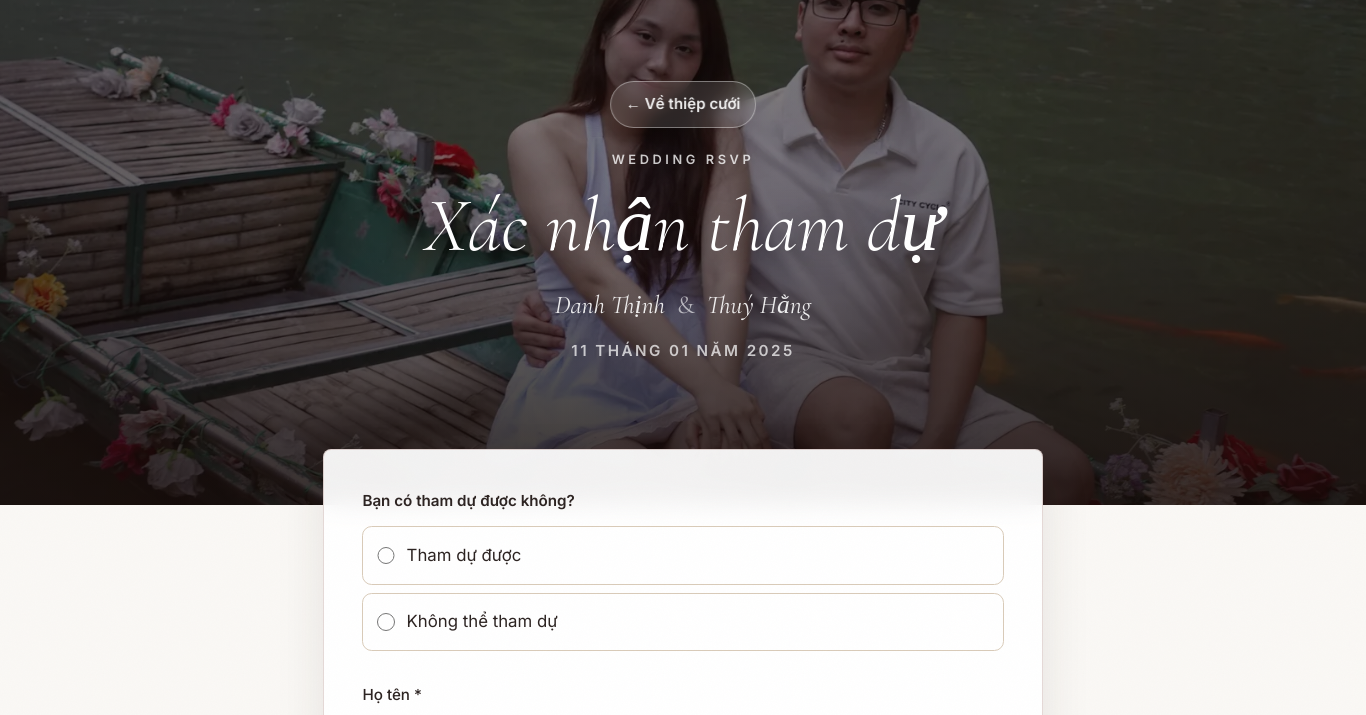
RSVPPage › submits a valid RSVP to the configured persistence layer
The width and height of the screenshot is (1366, 715).
Click the radio button labelled "Tham dự được" at (386, 556), box [377,547,395,564]
(page scrolled)
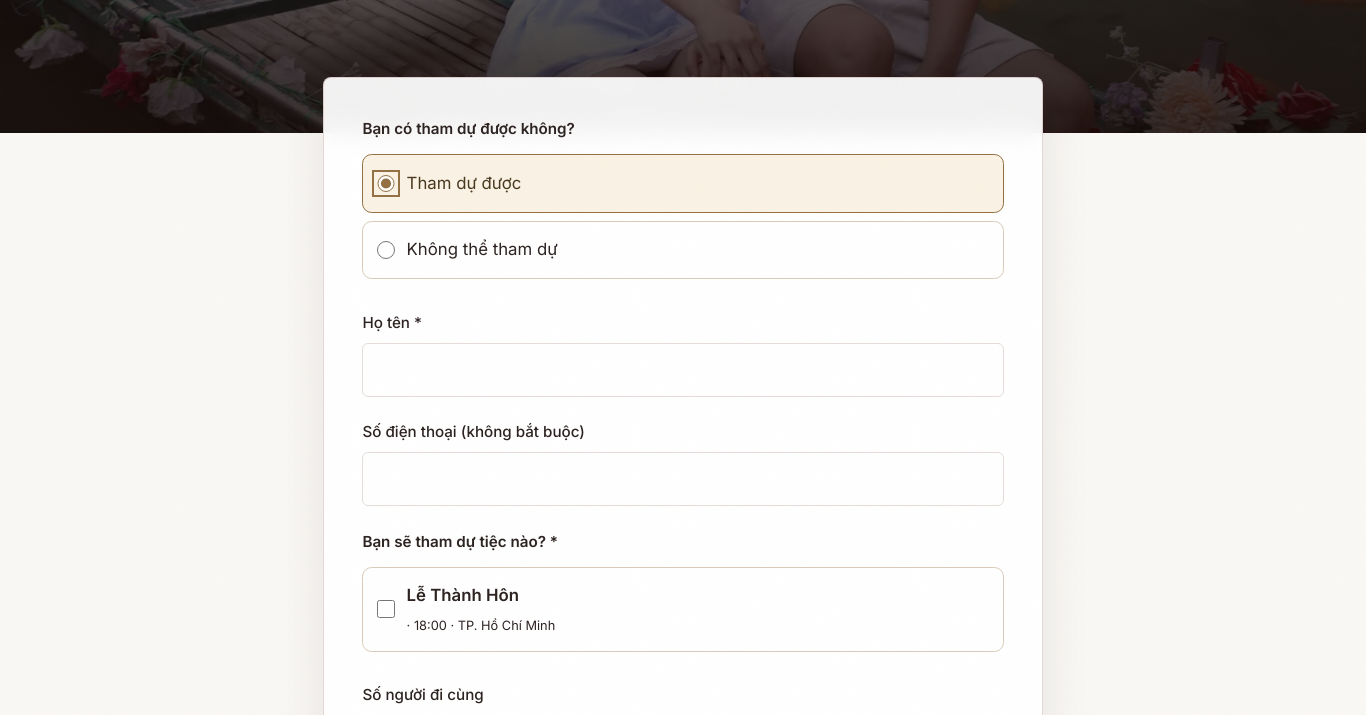
Type "Nguyễn Văn An" into the field labelled "Họ tên *" at (683, 370), box [362,343,1004,397]
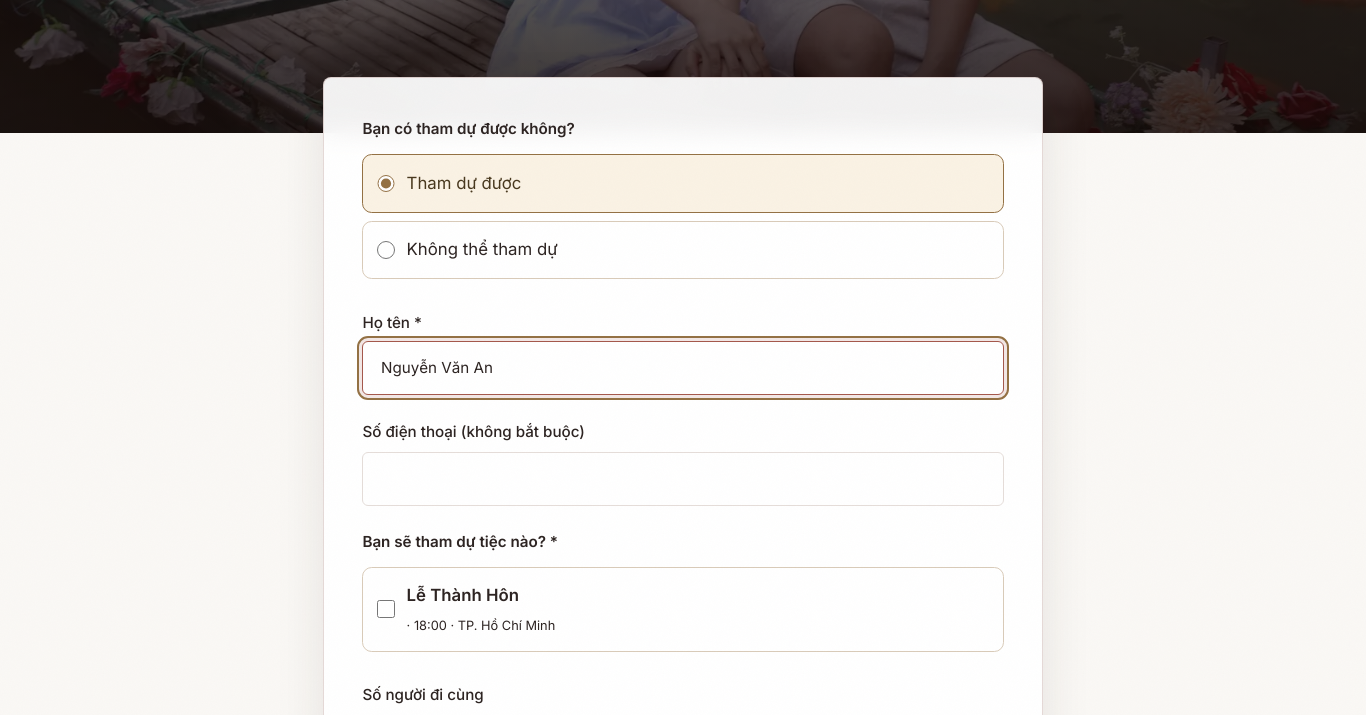
Type "0901234567" into the field labelled "Số điện thoại (không bắt buộc)" at (683, 479), box [362,452,1004,506]
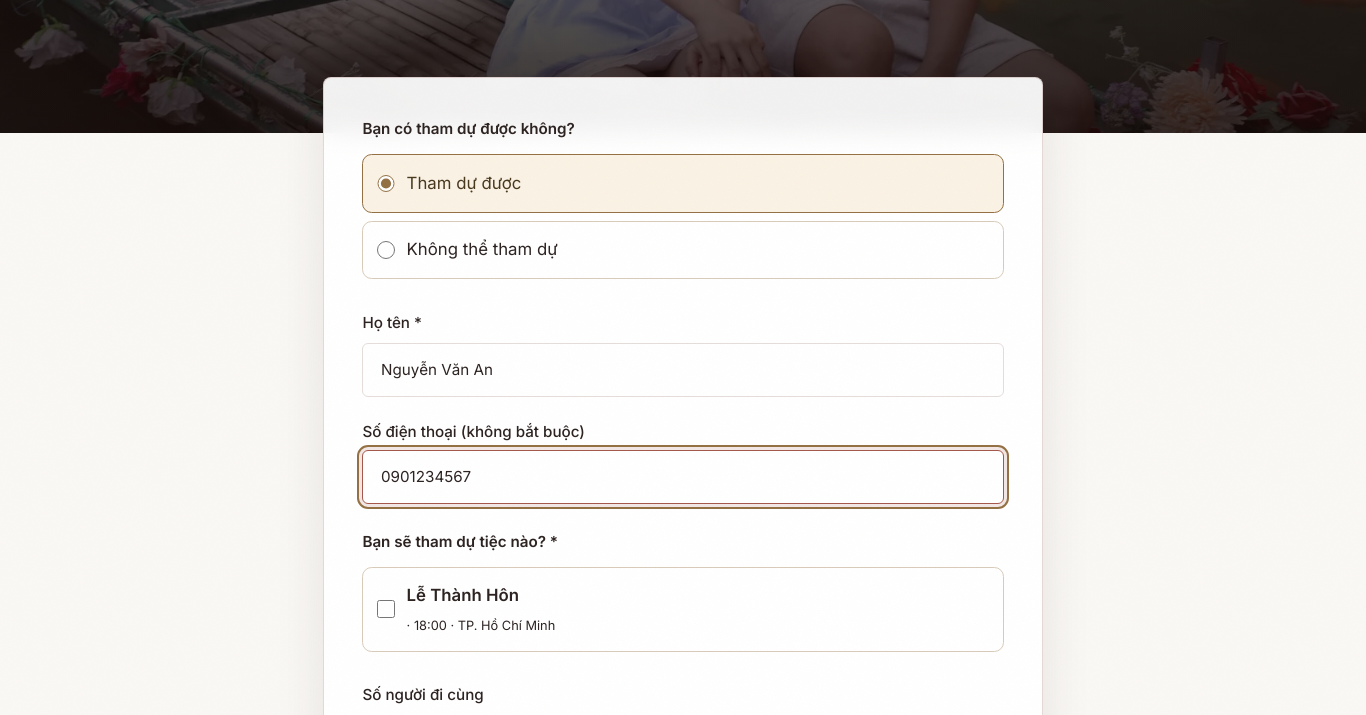
Click the checkbox at (386, 609), box [377,600,395,618]
(page scrolled)
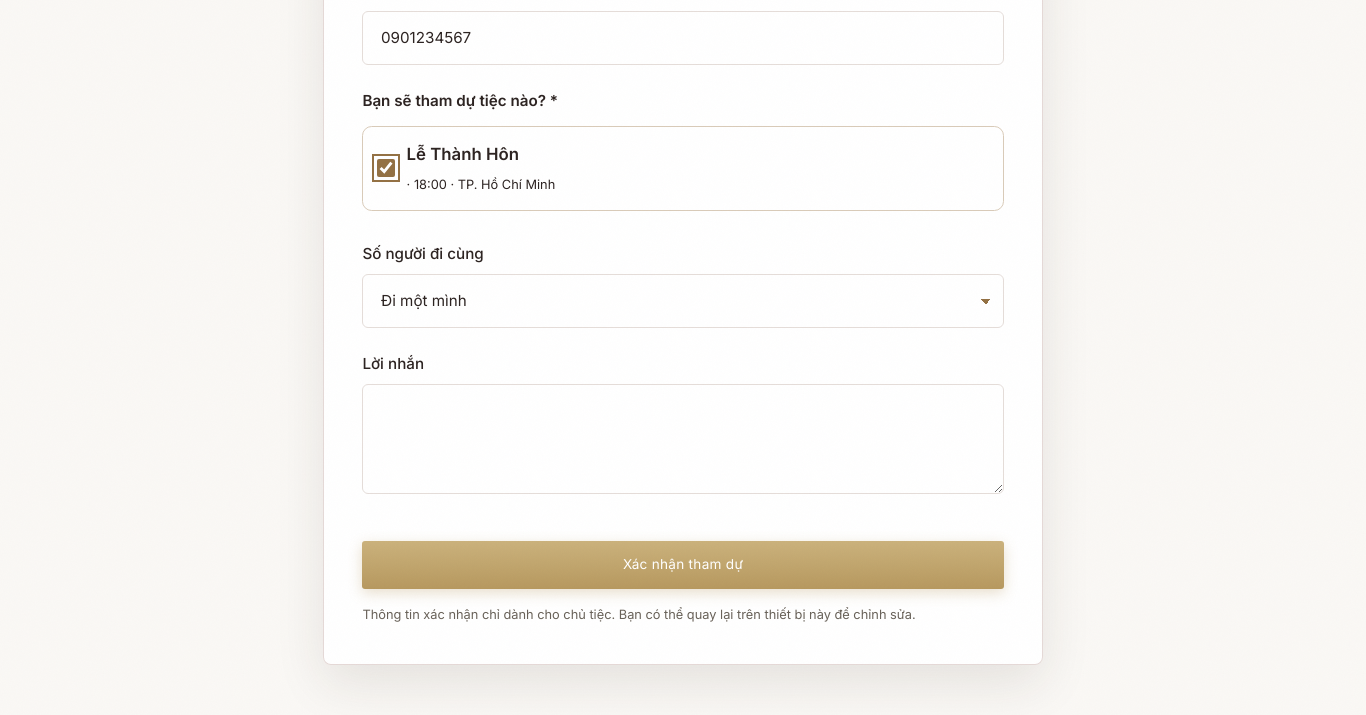
Click the button "Xác nhận tham dự" at (683, 565), box [362,541,1004,589]
(page scrolled)
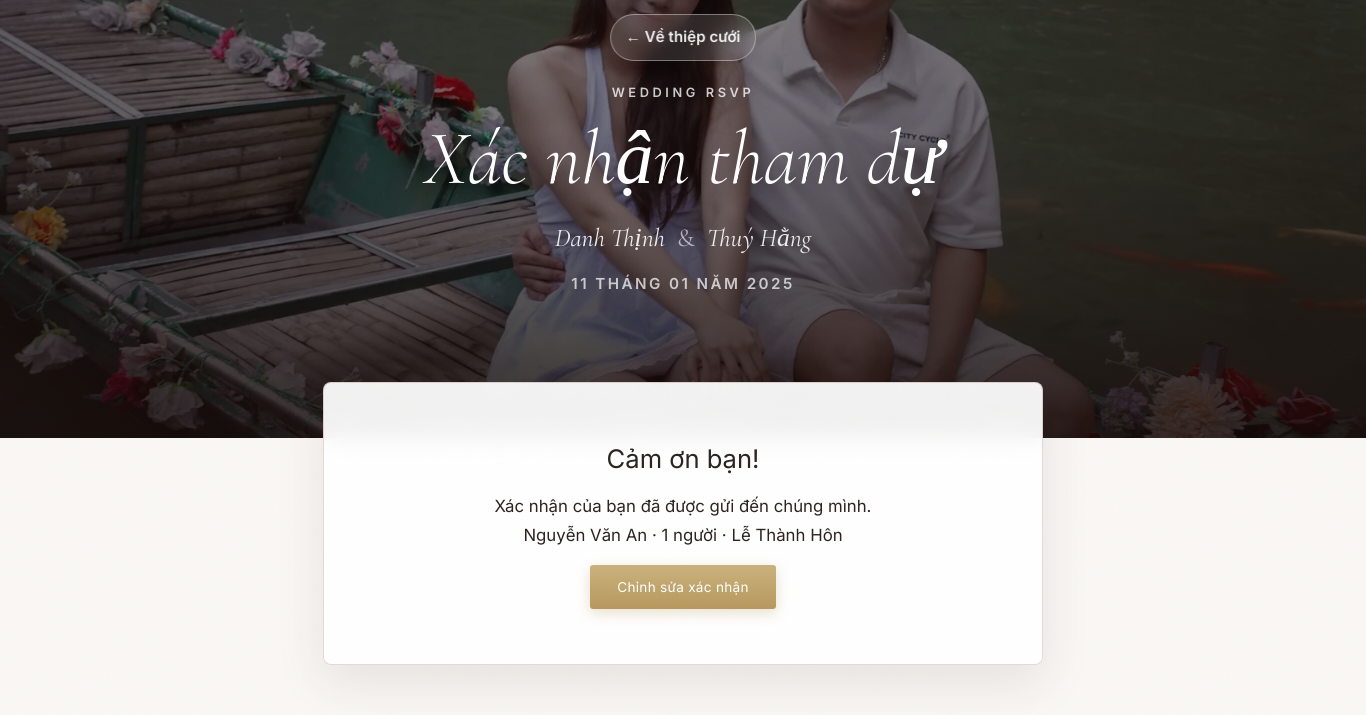
Expected: the heading "Cảm ơn bạn!" is shown, [607,443,759,474]
